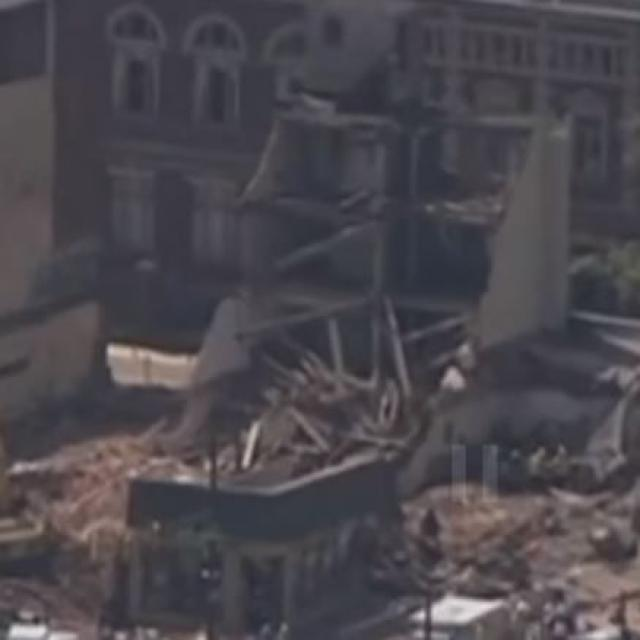collapsed_building: (126, 108, 561, 608)
